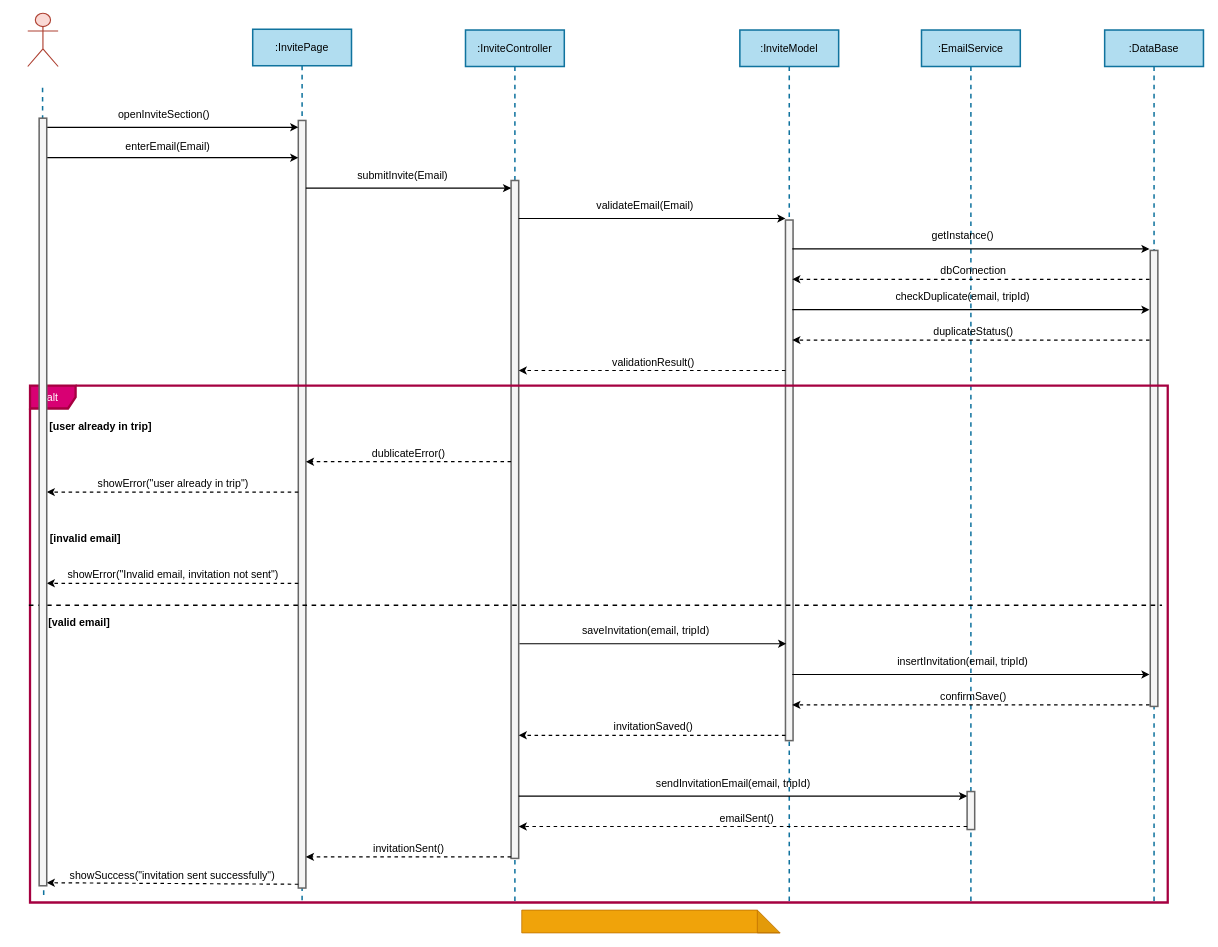
Image size: 1218x947. Some labels were removed from this diagram. Here are the shapes that lost their labels. From the top down, the centre of each, then its label:
At [42,39]: "Trip Member".
At [650,921]: "If invitee ignores, invitation expires after set time".
